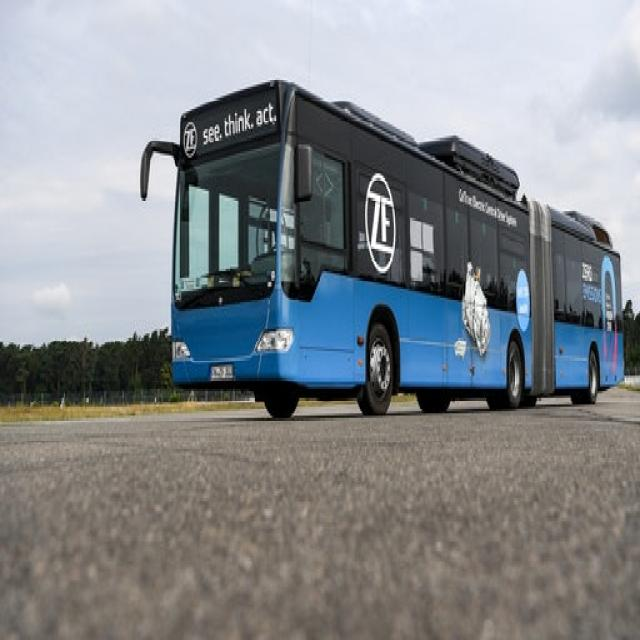AB: (138, 71, 628, 429)
